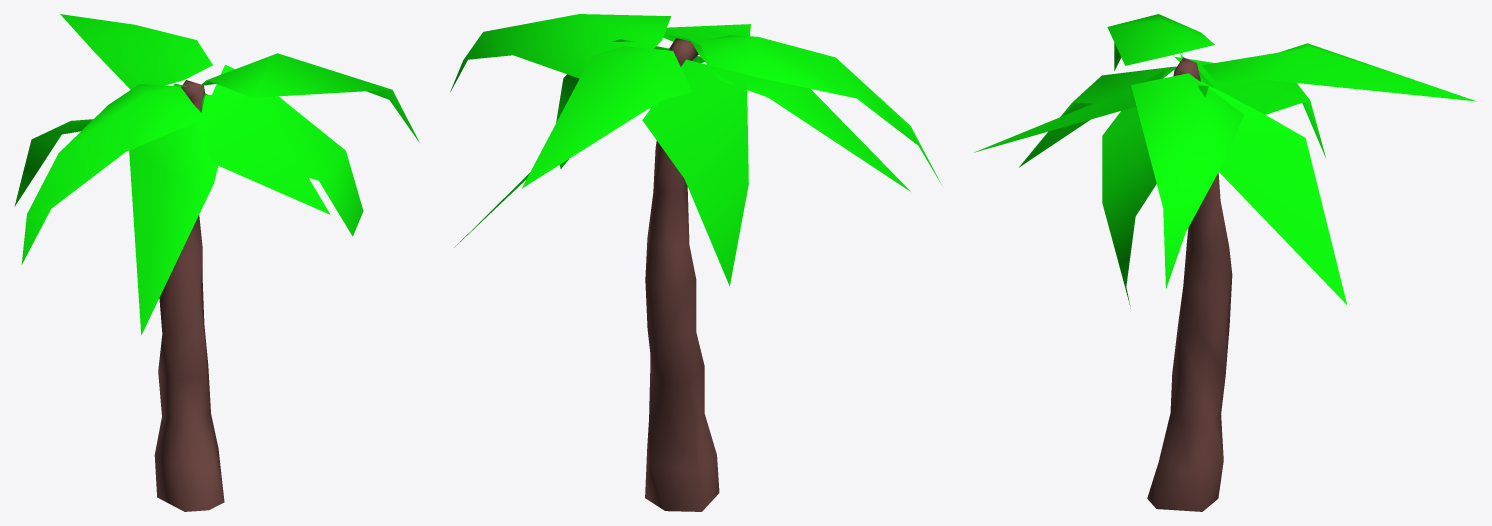
Rendered from Palm.fbx.
The picture shows the model from 3 angles, left to right: view 1: azimuth 30°, elevation 25°; view 2: azimuth 150°, elevation 25°; view 3: azimuth 270°, elevation 25°; orthographic projection. The views are drawn at different scales.
Parts seen in each view (by area): view 1: tronc, Feuille_5, Feuille_1, Feuille_2, Feuille_8, Feuille_7, Feuille_6, Feuille_4; view 2: tronc, Feuille_4, Feuille_8, Feuille_6, Feuille_1, Feuille_5, Feuille_2, Feuille_7; view 3: tronc, Feuille_6, Feuille_3, Feuille_8, Feuille_7, Feuille_1, Feuille_4, Feuille_5, Feuille_2.
Boxes of the visible parts, left/top/right/bottom form: tronc: left=154, top=80, right=224, bottom=511; Feuille_5: left=129, top=105, right=218, bottom=334; Feuille_1: left=21, top=84, right=203, bottom=264; Feuille_2: left=196, top=94, right=330, bottom=214; Feuille_8: left=60, top=14, right=212, bottom=89; Feuille_7: left=212, top=64, right=363, bottom=236; Feuille_6: left=201, top=53, right=419, bottom=142; Feuille_4: left=14, top=119, right=93, bottom=206; tronc: left=645, top=38, right=719, bottom=511; Feuille_4: left=642, top=59, right=748, bottom=286; Feuille_8: left=522, top=46, right=692, bottom=188; Feuille_6: left=450, top=14, right=670, bottom=91; Feuille_1: left=691, top=35, right=941, bottom=184; Feuille_5: left=698, top=52, right=910, bottom=191; Feuille_2: left=663, top=24, right=750, bottom=53; Feuille_7: left=556, top=39, right=704, bottom=168; tronc: left=1147, top=57, right=1232, bottom=511; Feuille_6: left=1131, top=73, right=1243, bottom=288; Feuille_3: left=1199, top=81, right=1346, bottom=304; Feuille_8: left=1202, top=43, right=1476, bottom=101; Feuille_7: left=1102, top=85, right=1208, bottom=305; Feuille_1: left=1107, top=14, right=1214, bottom=70; Feuille_4: left=1174, top=56, right=1325, bottom=157; Feuille_5: left=1019, top=66, right=1176, bottom=167; Feuille_2: left=974, top=71, right=1164, bottom=152.
Size of the model in its own units: 14.48 by 14.02 by 14.18.
